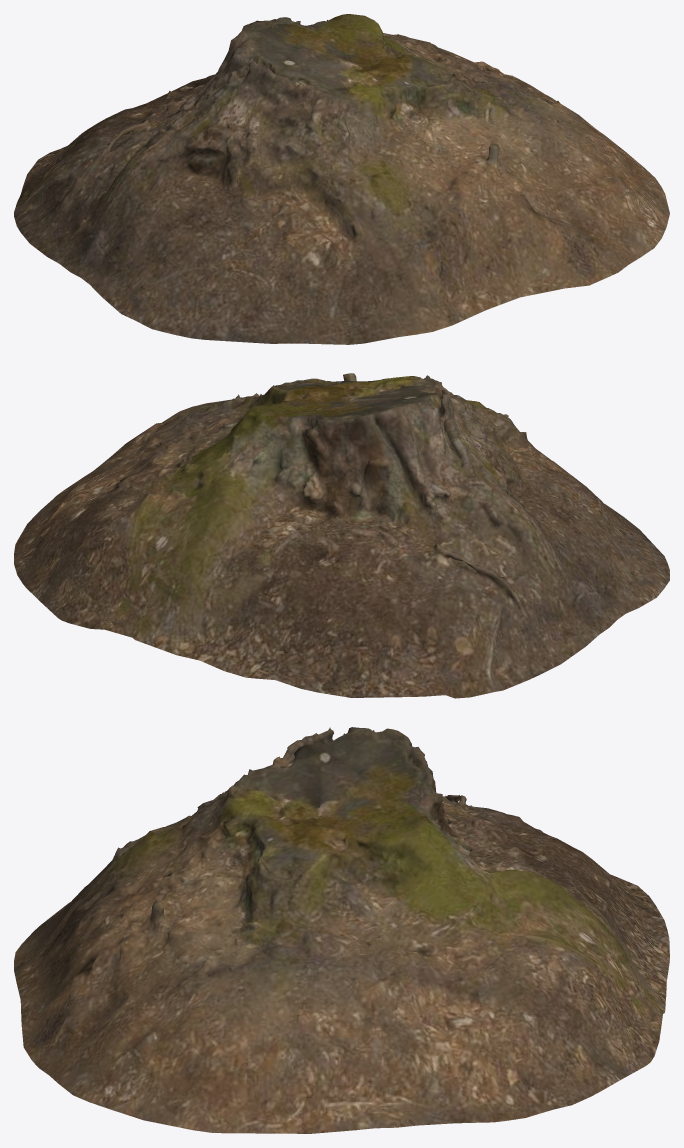
Rendered from tree_stump_02.glb.
The picture shows the model from 3 angles, top to bottom: view 1: azimuth 30°, elevation 25°; view 2: azimuth 150°, elevation 25°; view 3: azimuth 270°, elevation 25°; orthographic projection. The views are drawn at different scales.
Visible parts, largest first — view 1: tree_stump_02; view 2: tree_stump_02; view 3: tree_stump_02.
Part boxes in pixels (x1,y1,x2,y2): tree_stump_02: (14,14,669,344); tree_stump_02: (14,373,669,698); tree_stump_02: (14,727,669,1133).
Bounding box in the file's own units: 1.52 × 0.5214 × 1.39.
1 material, 1 textured.
